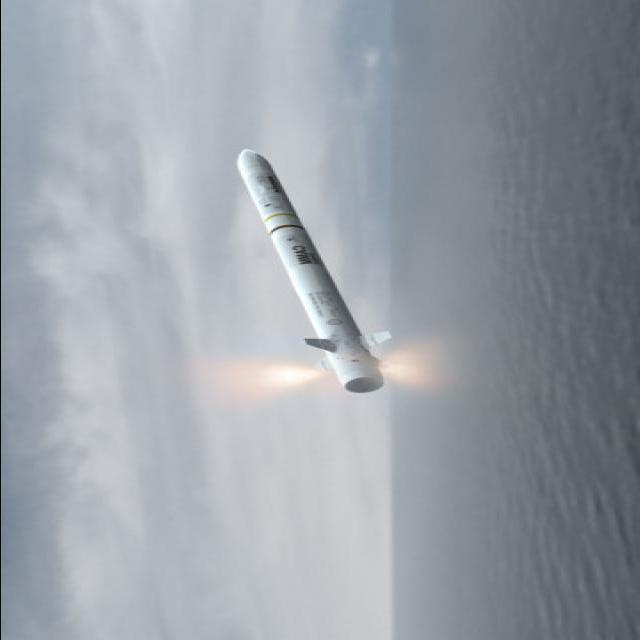missile: (206, 152, 412, 389)
